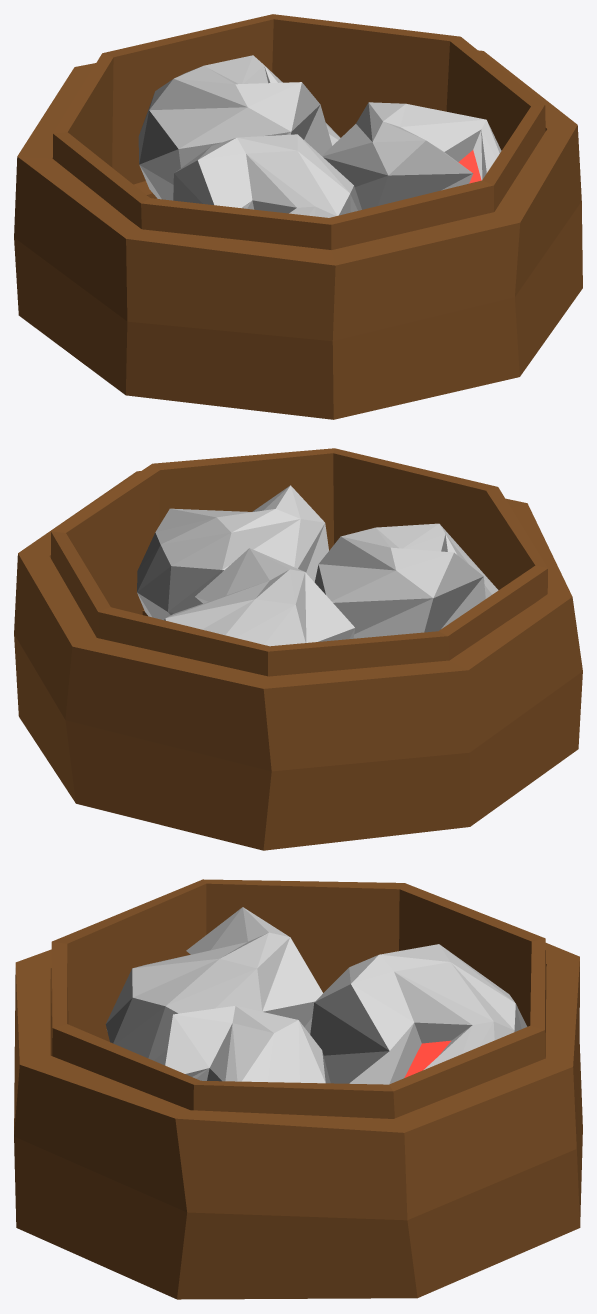
Rendered from BBQ_Pork_Bun.fbx.
3 views of the same model, one above another, from view 1: azimuth 30°, elevation 25°; view 2: azimuth 150°, elevation 25°; view 3: azimuth 270°, elevation 25° (orthographic). The views are drawn at different scales.
Visible parts, largest first — view 1: Cylinder.002; view 2: Cylinder.002; view 3: Cylinder.002.
Part boxes in pixels (box(x1,y1,x2,y2)): Cylinder.002: box(14, 14, 582, 419); Cylinder.002: box(14, 448, 582, 850); Cylinder.002: box(14, 879, 582, 1299).
Size of the model in its own units: 192 by 78.31 by 190.
